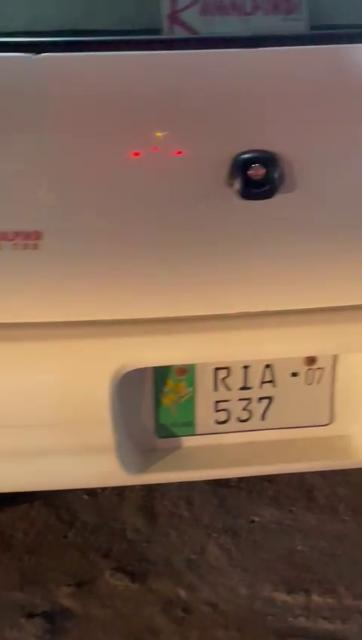plate: (157, 355, 329, 437)
